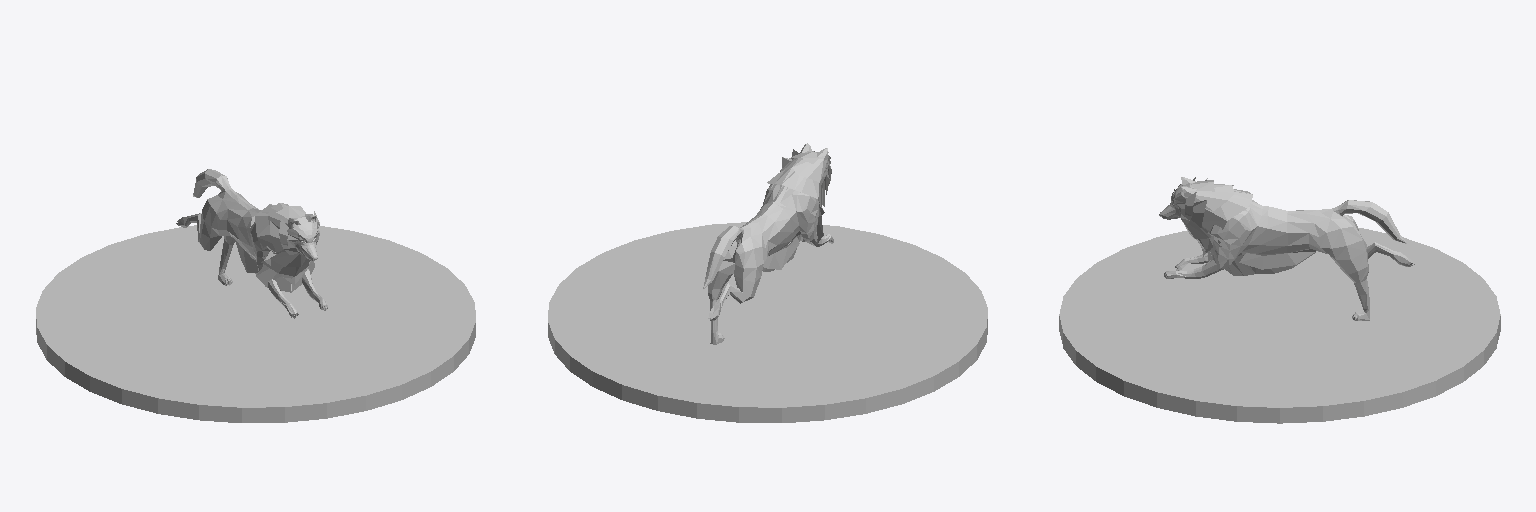
The model's file is Wolf_0014.obj.
3 renders of one model, left to right at view 1: azimuth 30°, elevation 25°; view 2: azimuth 150°, elevation 25°; view 3: azimuth 270°, elevation 25°, orthographic.
Visible parts, largest first — view 1: Circle, Wolf1_Material__wolf_col_tga_0, Wolf2_fur__fella3_jpg_001_0; view 2: Circle, Wolf1_Material__wolf_col_tga_0, Wolf2_fur__fella3_jpg_001_0; view 3: Circle, Wolf1_Material__wolf_col_tga_0, Wolf2_fur__fella3_jpg_001_0.
Boxes of the visible parts, <box> form: Circle: <box>36,225,475,422</box>; Wolf1_Material__wolf_col_tga_0: <box>177,169,327,317</box>; Wolf2_fur__fella3_jpg_001_0: <box>235,203,319,292</box>; Circle: <box>548,222,987,422</box>; Wolf1_Material__wolf_col_tga_0: <box>703,143,833,344</box>; Wolf2_fur__fella3_jpg_001_0: <box>762,149,831,271</box>; Circle: <box>1059,228,1500,423</box>; Wolf1_Material__wolf_col_tga_0: <box>1159,177,1412,320</box>; Wolf2_fur__fella3_jpg_001_0: <box>1171,177,1315,275</box>.
Size of the model in its own units: 1.69 by 0.6272 by 1.69.